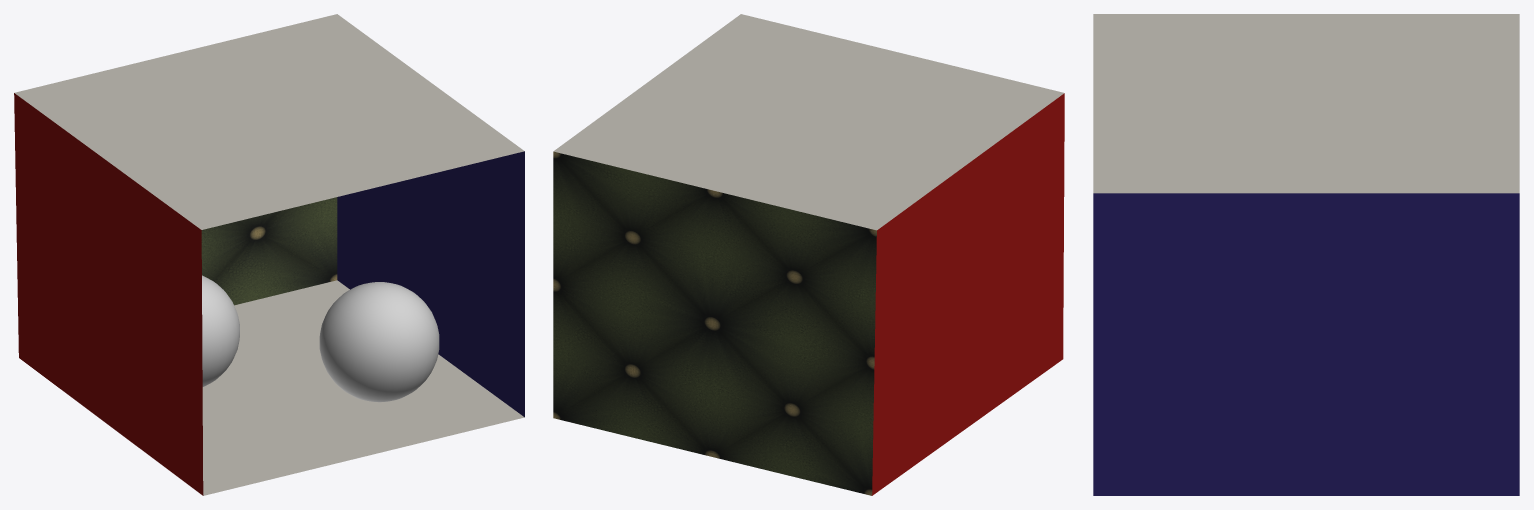
File: CornellBox-Mapping.obj
The picture shows the model from 3 angles, left to right: view 1: azimuth 30°, elevation 25°; view 2: azimuth 150°, elevation 25°; view 3: azimuth 270°, elevation 25°; orthographic projection. The views are drawn at different scales.
Visible parts, largest first — view 1: ceiling, leftWall, floor, rightWall, rightSphere, backWall, leftSphere; view 2: backWall, ceiling, leftWall; view 3: rightWall, ceiling.
Part boxes in pixels (x1,y1,x2,y2): ceiling: [14, 14, 524, 229]; leftWall: [14, 93, 203, 495]; floor: [202, 280, 524, 495]; rightWall: [337, 151, 524, 417]; rightSphere: [319, 282, 439, 402]; backWall: [201, 197, 337, 305]; leftSphere: [202, 275, 239, 386]; backWall: [553, 151, 876, 495]; ceiling: [553, 14, 1064, 230]; leftWall: [872, 93, 1064, 495]; rightWall: [1093, 193, 1519, 495]; ceiling: [1093, 14, 1519, 193].
Bounding box in the file's own units: 2.02 × 1.59 × 2.03.
8 materials, 1 textured.
